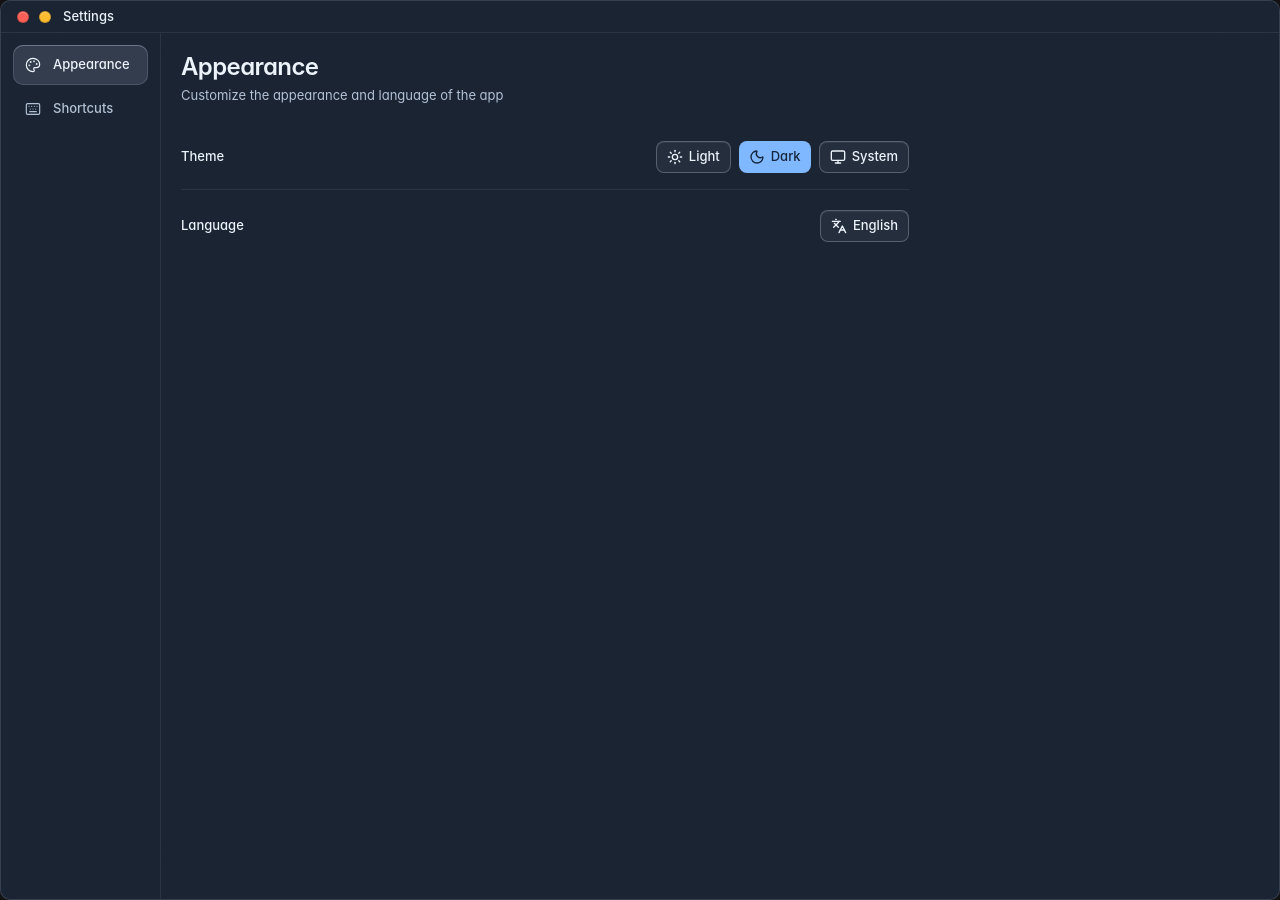
Test case: reports failed startup restoration and retries the same saved combination
Click the button "Shortcuts".
click(80, 109)  # box [13,89,148,129]
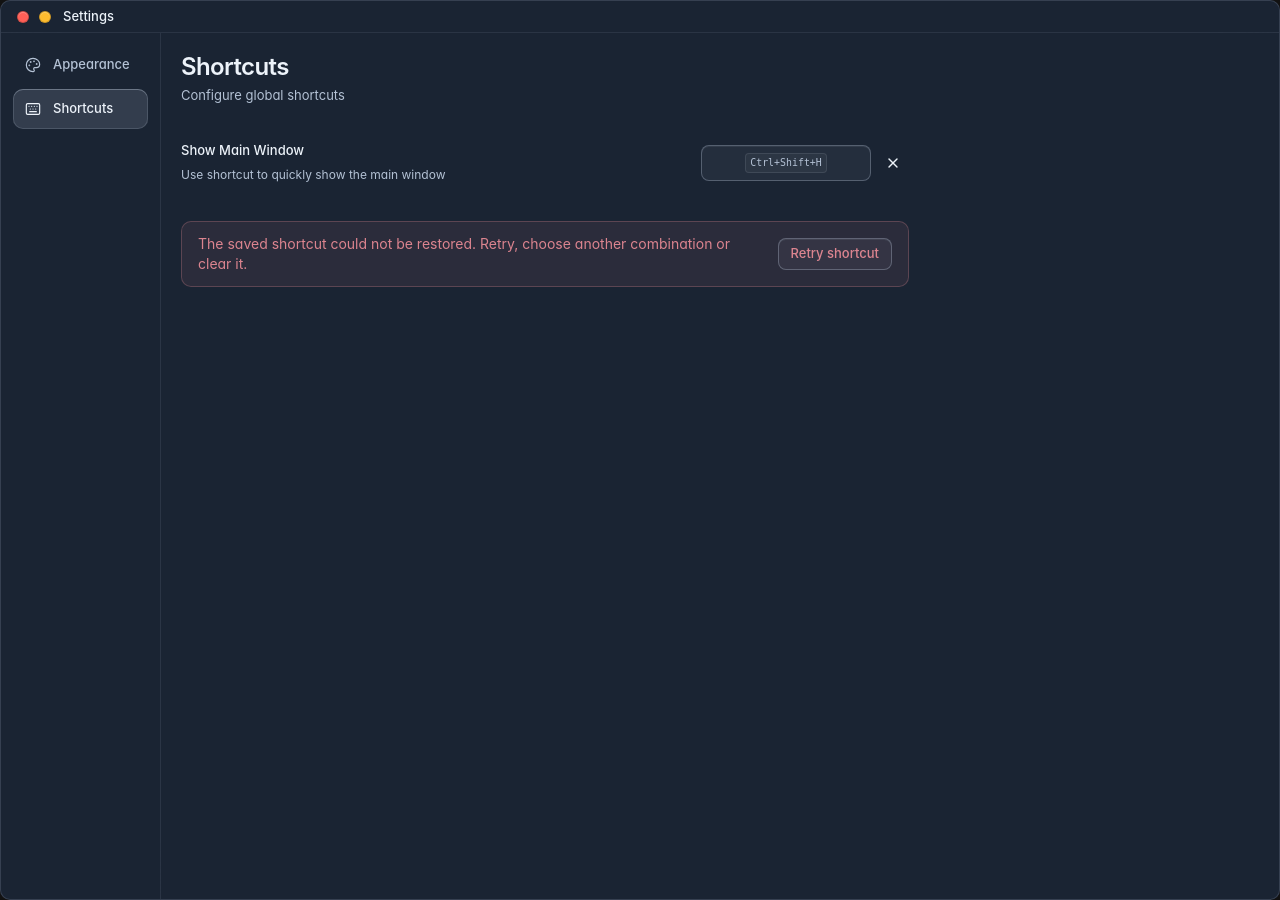
Expected: the message is shown, [181,220,909,286]
Expected: the text "Ctrl+Shift+H" is shown, [745,153,827,173]
Click the button "Retry shortcut".
click(835, 254)  # box [778,238,892,270]
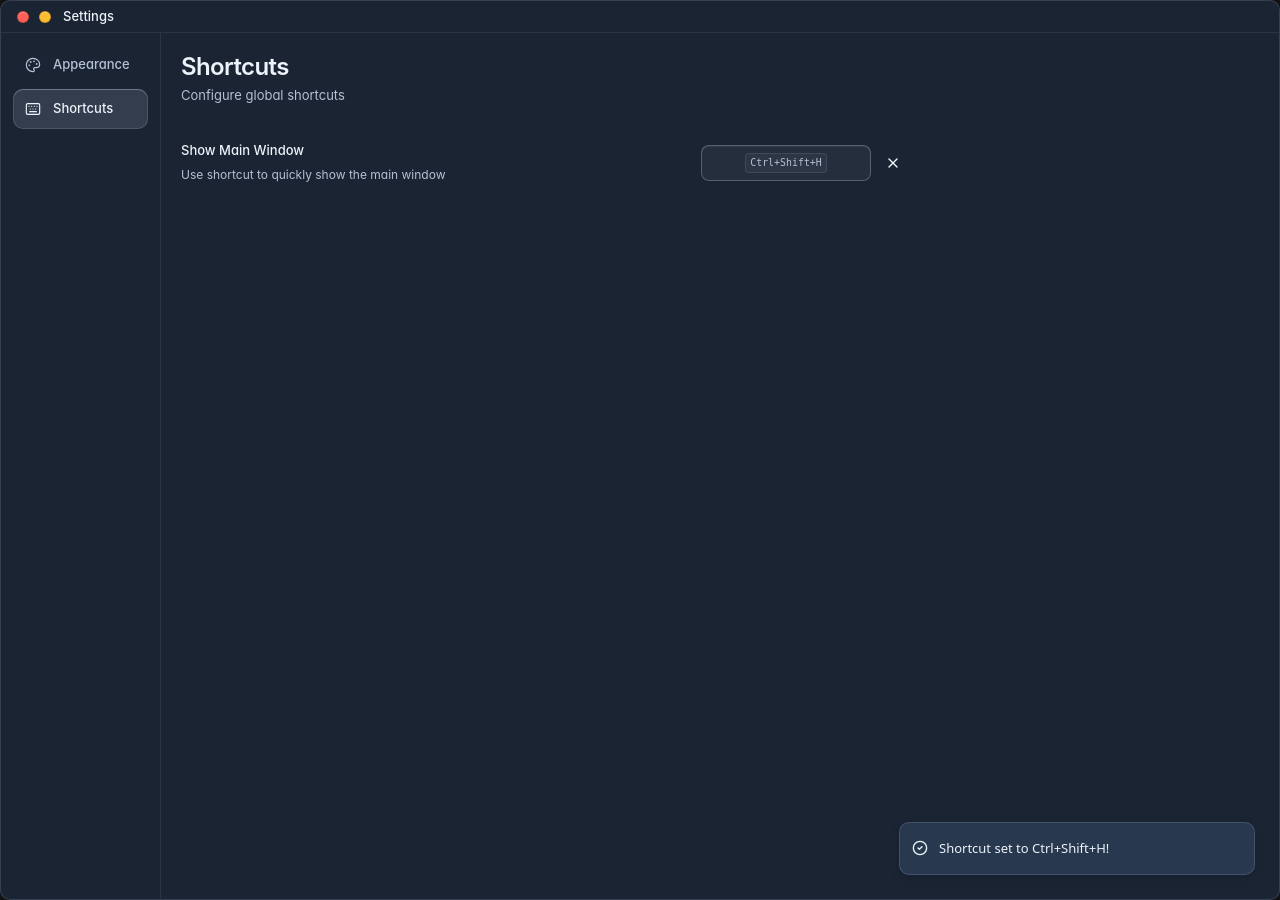
Expected: the text "Ctrl+Shift+H" is shown, [745,153,827,173]
Expected: the message is gone
